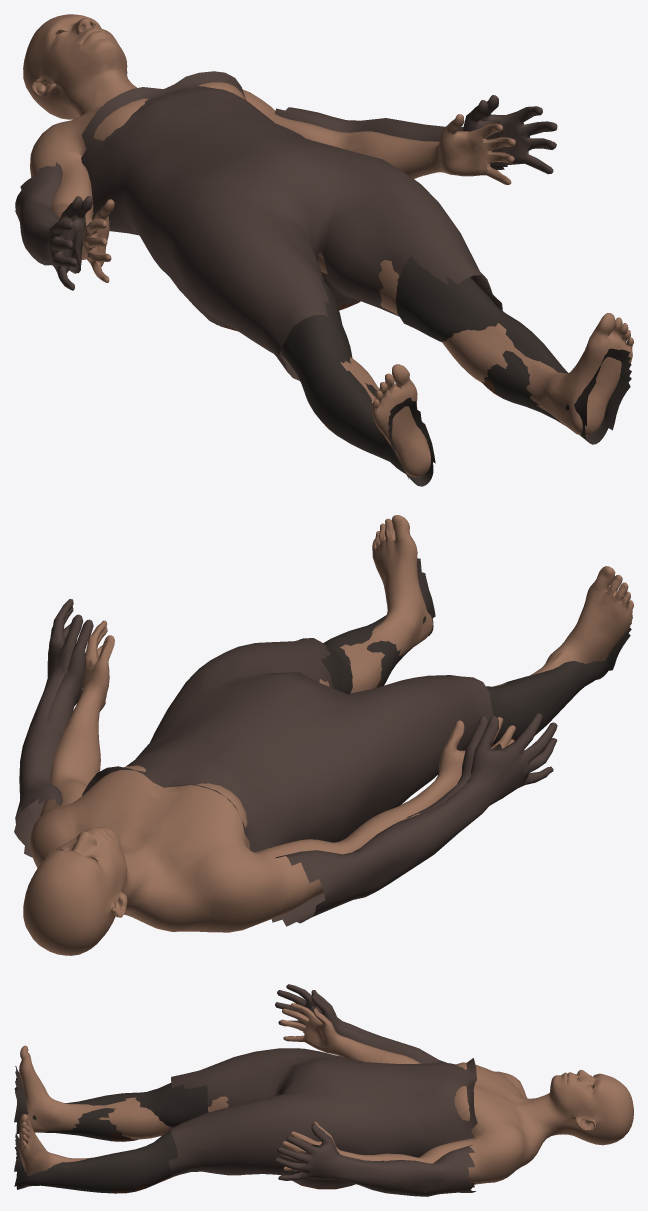
The model's file is villager.glb.
The picture shows the model from 3 angles, top to bottom: view 1: azimuth 30°, elevation 25°; view 2: azimuth 150°, elevation 25°; view 3: azimuth 270°, elevation 25°; orthographic projection. The views are drawn at different scales.
Parts seen in each view (by area): view 1: V36_Villager_Shirt, V36_RealisticAnatomicalBody, V36_Villager_Trousers, V36_Villager_Sleeves; view 2: V36_Villager_Shirt, V36_RealisticAnatomicalBody, V36_Villager_Trousers, V36_Villager_Sleeves; view 3: V36_Villager_Shirt, V36_RealisticAnatomicalBody, V36_Villager_Trousers, V36_Villager_Sleeves, V36_Villager_Apron.
Boxes of the visible parts, x1=… form: V36_Villager_Shirt: x1=15, y1=71, x2=557, y2=380; V36_RealisticAnatomicalBody: x1=23, y1=14, x2=633, y2=477; V36_Villager_Trousers: x1=279, y1=256, x2=631, y2=486; V36_Villager_Sleeves: x1=48, y1=100, x2=507, y2=357; V36_Villager_Shirt: x1=14, y1=599, x2=557, y2=926; V36_RealisticAnatomicalBody: x1=23, y1=515, x2=633, y2=955; V36_Villager_Trousers: x1=320, y1=558, x2=631, y2=747; V36_Villager_Sleeves: x1=47, y1=619, x2=502, y2=818; V36_Villager_Shirt: x1=168, y1=984, x2=477, y2=1196; V36_RealisticAnatomicalBody: x1=19, y1=1003, x2=633, y2=1186; V36_Villager_Trousers: x1=14, y1=1066, x2=214, y2=1193; V36_Villager_Sleeves: x1=203, y1=995, x2=386, y2=1175; V36_Villager_Apron: x1=110, y1=1132, x2=355, y2=1193.
Size of the model in its own units: 2.03 by 0.7024 by 3.33.
